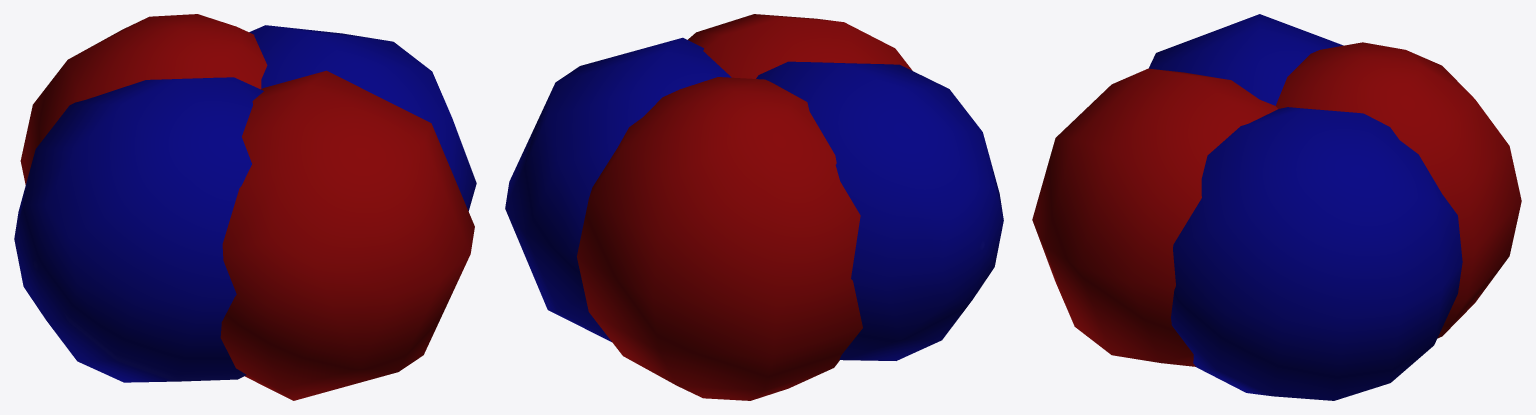
Rendered from He_Nucleus.gltf.
The picture shows the model from 3 angles, left to right: view 1: azimuth 30°, elevation 25°; view 2: azimuth 150°, elevation 25°; view 3: azimuth 270°, elevation 25°; orthographic projection. The views are drawn at different scales.
Parts seen in each view (by area): view 1: Nutron__07, Proton__08, Nutron__08, Proton__07; view 2: Nutron__08, Proton__08, Proton__07, Nutron__07; view 3: Proton__07, Nutron__07, Nutron__08, Proton__08.
Part boxes in pixels (box(x1,y1,x2,y2)): Nutron__07: box(220, 70, 474, 400); Proton__08: box(14, 77, 263, 382); Nutron__08: box(20, 14, 267, 184); Proton__07: box(249, 25, 476, 211); Nutron__08: box(577, 77, 862, 400); Proton__08: box(756, 61, 1003, 360); Proton__07: box(505, 37, 731, 341); Nutron__07: box(688, 14, 912, 78); Proton__07: box(1171, 107, 1462, 400); Nutron__07: box(1032, 68, 1277, 366); Nutron__08: box(1276, 42, 1521, 338); Proton__08: box(1148, 14, 1343, 105).
Size of the model in its own units: 7.02 by 4.71 by 7.05.
Materials: 2 (2 with a texture image).
